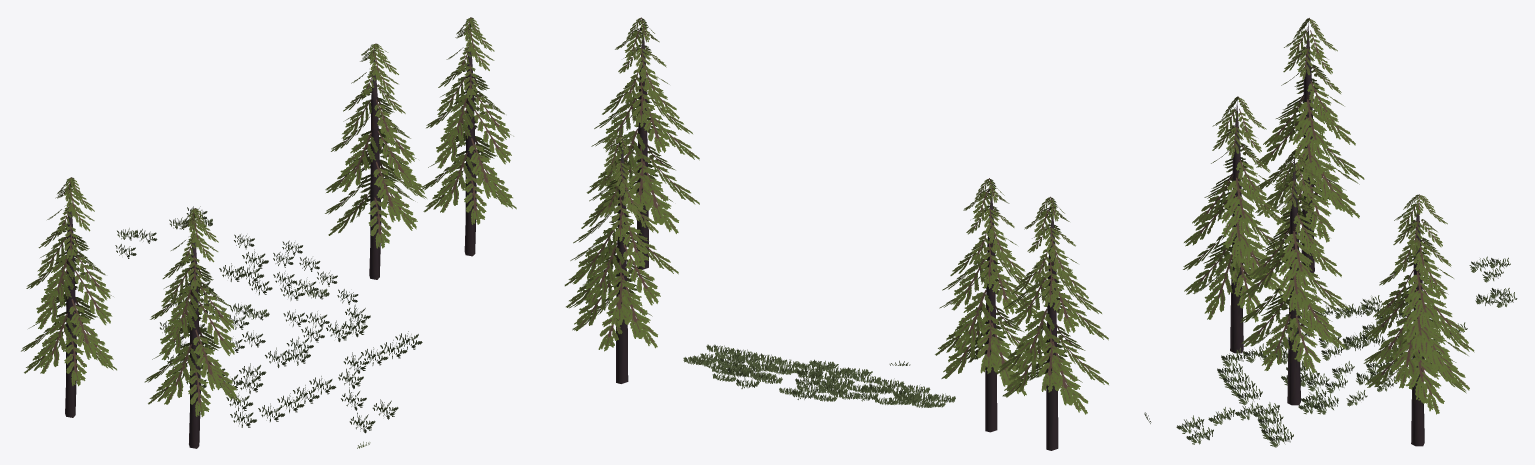
File: Ciudad_piedras04.fbx
3 renders of one model, left to right at view 1: azimuth 30°, elevation 25°; view 2: azimuth 150°, elevation 25°; view 3: azimuth 270°, elevation 25°, orthographic. The views are drawn at different scales.
Parts seen in each view (by area): view 1: Ciudad_piedras04; view 2: Ciudad_piedras04; view 3: Ciudad_piedras04.
Part boxes in pixels (left/top/right/bottom): Ciudad_piedras04: left=21, top=17, right=516, bottom=448; Ciudad_piedras04: left=564, top=17, right=1108, bottom=450; Ciudad_piedras04: left=1144, top=18, right=1517, bottom=447.
Bounding box in the file's own units: 107 × 70.26 × 65.52.
